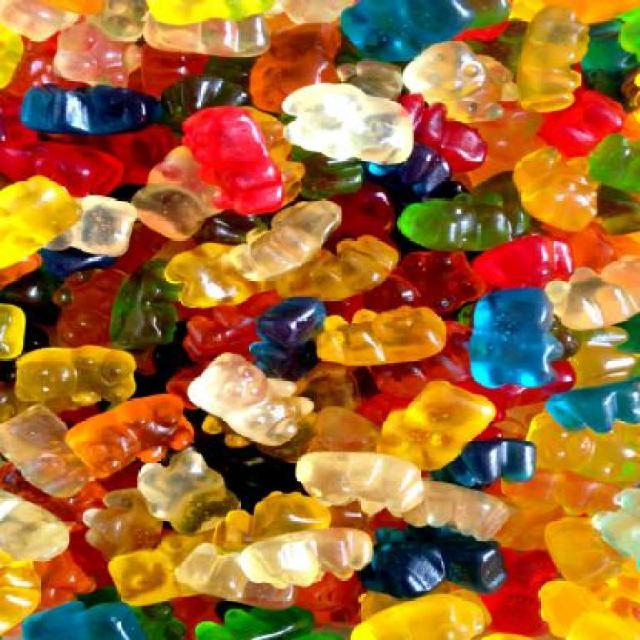Candy: (0, 16, 594, 613)
